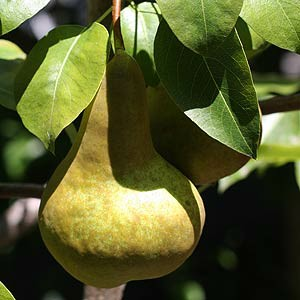pear: (41, 52, 206, 287)
